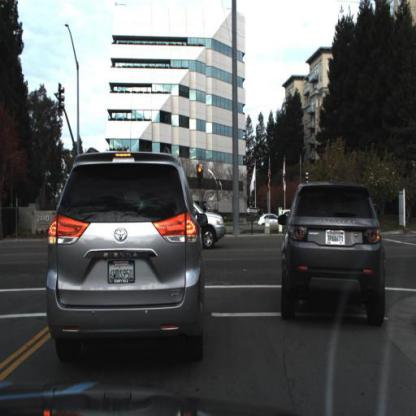car: (49, 146, 215, 365), (268, 163, 388, 331), (195, 181, 234, 254), (260, 215, 290, 233)
trafficLight: (195, 161, 206, 191)
trafficLight-Red: (194, 151, 209, 200)
